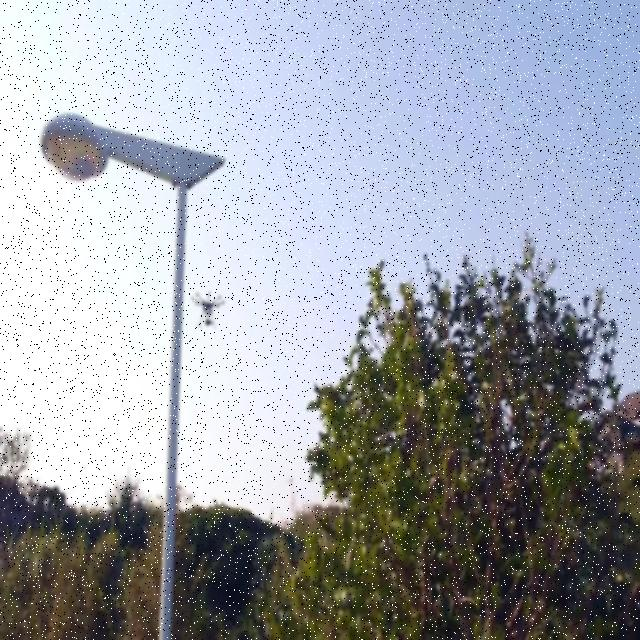UAV: (192, 292, 224, 331)
